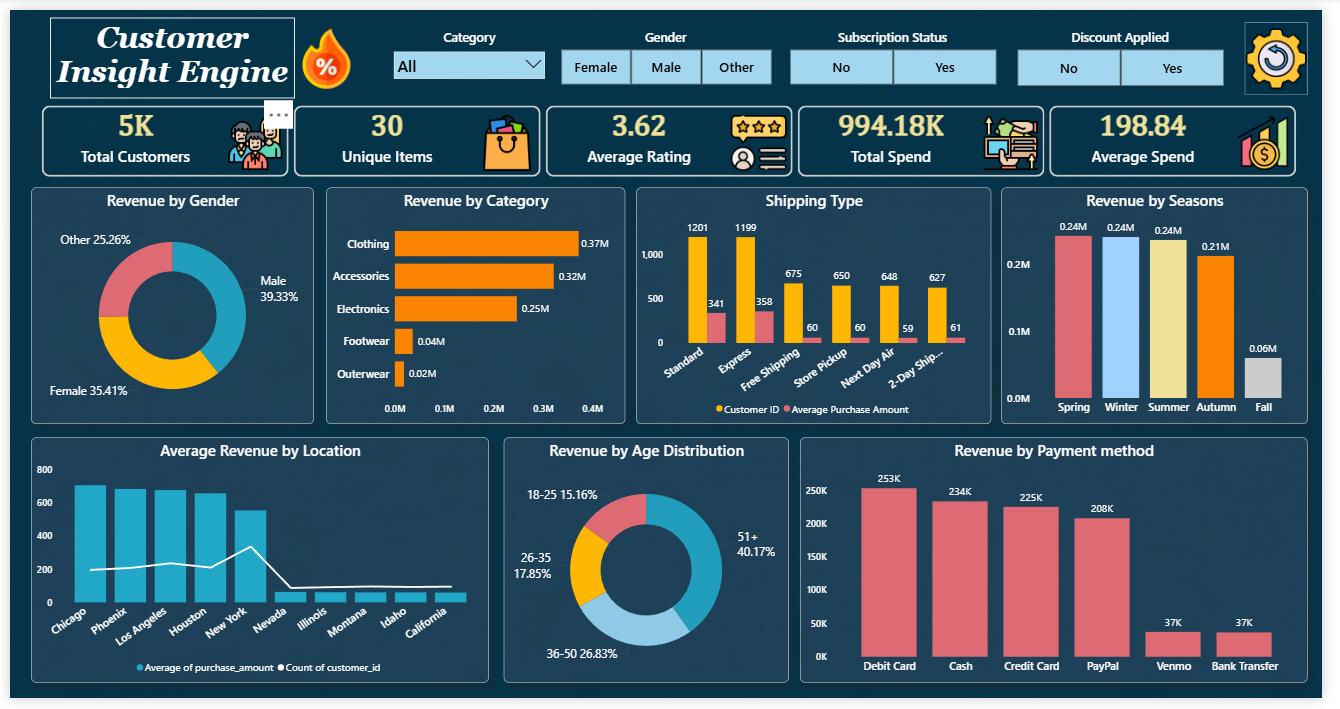

This screenshot's page, from the dashboard's own definition file:
{"tool":"powerbi","page":{"name":"Customer Analysis Review","canvas":[2100,1100],"ordinal":0},"visuals":[{"type":"cardVisual","fields":{"Data":["python_project customer_shopping.Total Customers","python_project customer_shopping.Unique Items","python_project customer_shopping.Average Rating","python_project customer_shopping.Total Spend","python_project customer_shopping.Average Spend"]},"box":[34,136,2042,148],"z":0},{"type":"donutChart","title":"Revenue by Gender","fields":{"Y":["Sum(python_project customer_shopping.purchase_amount)"],"Category":["python_project customer_shopping.gender"]},"box":[34,284,452,378],"z":1000},{"type":"barChart","title":"Revenue by Category","fields":{"Y":["Sum(python_project customer_shopping.purchase_amount)"],"Category":["python_project customer_shopping.category"]},"box":[506,284,478,378],"z":2000},{"type":"clusteredColumnChart","title":"Shipping Type","fields":{"Category":["python_project customer_shopping.shipping_type"],"Y":["CountNonNull(python_project customer_shopping.customer_id)","Avg(python_project customer_shopping.purchase_amount)"]},"box":[1002,284,568,378],"z":3000},{"type":"clusteredColumnChart","title":"Revenue by Seasons","fields":{"Category":["python_project customer_shopping.season"],"Y":["Sum(python_project customer_shopping.purchase_amount)"]},"box":[1586,284,490,378],"z":4000},{"type":"donutChart","title":"Revenue by Age Distribution","fields":{"Y":["Sum(python_project customer_shopping.purchase_amount)"],"Category":["python_project customer_shopping.age (groups)"]},"box":[790,684,456,392],"z":5000},{"type":"clusteredColumnChart","title":"Revenue by Payment method","fields":{"Category":["python_project customer_shopping.payment_method"],"Y":["Sum(python_project customer_shopping.purchase_amount)"]},"box":[1264,684,812,392],"z":6000},{"type":"lineClusteredColumnComboChart","title":"Average Revenue by Location","fields":{"Category":["python_project customer_shopping.location"],"Y":["Avg(python_project customer_shopping.purchase_amount)"],"Y2":["CountNonNull(python_project customer_shopping.customer_id)"]},"box":[34,684,732,392],"z":7000},{"type":"textbox","box":[64,12,392,130],"z":8000},{"type":"slicer","title":"Category","fields":{"Values":["python_project customer_shopping.category"]},"box":[604,30,262,96],"z":9000},{"type":"slicer","title":"Gender","fields":{"Values":["python_project customer_shopping.gender"]},"box":[856,30,386,96],"z":10000},{"type":"slicer","title":"Subscription Status","fields":{"Values":["python_project customer_shopping.subscription_status"]},"box":[1222,30,380,96],"z":11000},{"type":"slicer","title":"Discount Applied","fields":{"Values":["python_project customer_shopping.discount_applied"]},"box":[1586,30,380,98],"z":12000},{"type":"actionButton","box":[1976,20,100,116],"z":13000},{"type":"image","box":[456,30,100,96],"z":14000}]}

Visuals, with their boxes in screenshot pixels (x1, y1, x2, y2), scaled from the page's 2100x1100 canvas onto the 1340x709 screenshot:
cardVisual - python_project customer_shopping.Total Customers x python_project customer_shopping.Unique Items: locate(22, 88, 1325, 183)
"Revenue by Gender" donutChart: locate(22, 183, 310, 427)
"Revenue by Category" barChart: locate(323, 183, 628, 427)
"Shipping Type" clusteredColumnChart: locate(639, 183, 1002, 427)
"Revenue by Seasons" clusteredColumnChart: locate(1012, 183, 1325, 427)
"Revenue by Age Distribution" donutChart: locate(504, 441, 795, 694)
"Revenue by Payment method" clusteredColumnChart: locate(807, 441, 1325, 694)
"Average Revenue by Location" lineClusteredColumnComboChart: locate(22, 441, 489, 694)
textbox: locate(41, 8, 291, 92)
"Category" slicer: locate(385, 19, 553, 81)
"Gender" slicer: locate(546, 19, 793, 81)
"Subscription Status" slicer: locate(780, 19, 1022, 81)
"Discount Applied" slicer: locate(1012, 19, 1254, 83)
actionButton: locate(1261, 13, 1325, 88)
image: locate(291, 19, 355, 81)
